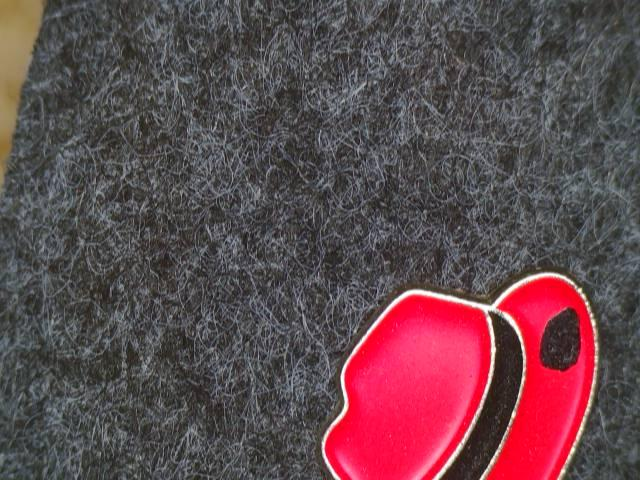Red-Hat: (290, 230, 621, 480)
Scratch: (526, 294, 611, 379)
